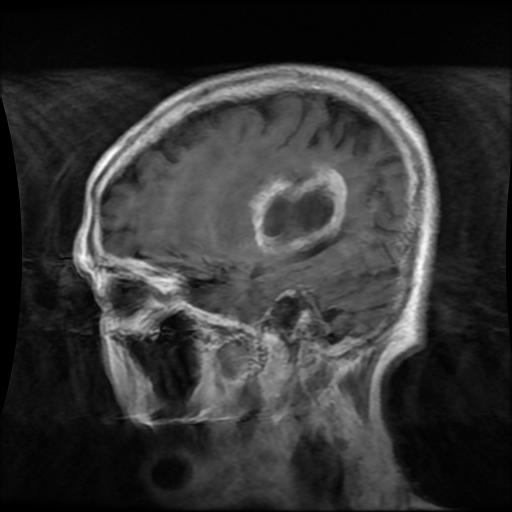Gliomia_tumour: (248, 161, 346, 254)
